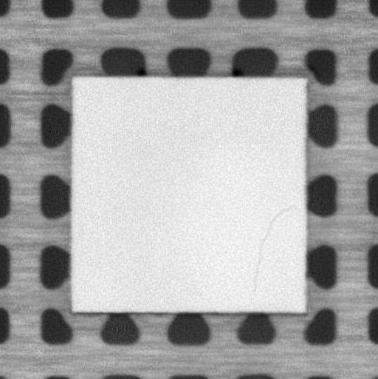DIE_CRACK: (252, 204, 296, 294)
